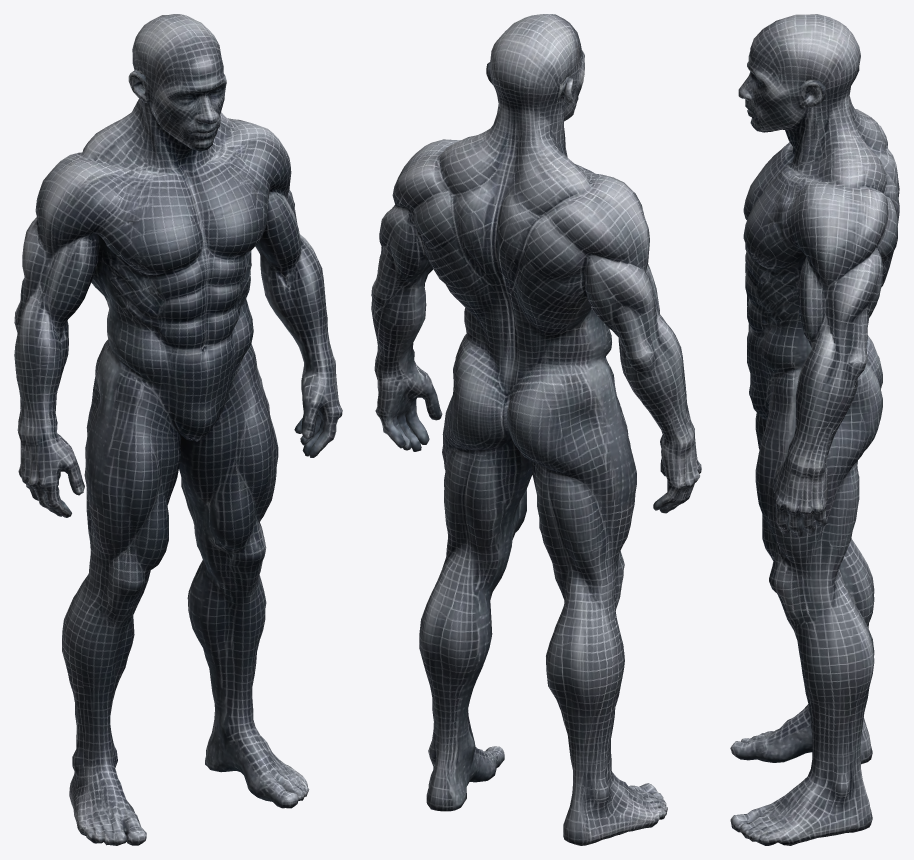
Rendered from humanoid+3d+model-opt.glb.
3 views of the same model, side by side, from view 1: azimuth 30°, elevation 25°; view 2: azimuth 150°, elevation 25°; view 3: azimuth 270°, elevation 25° (orthographic).
Visible parts, largest first — view 1: tripo_node_90bb7f0e-585d-4687-9f8a-162197c8fb27; view 2: tripo_node_90bb7f0e-585d-4687-9f8a-162197c8fb27; view 3: tripo_node_90bb7f0e-585d-4687-9f8a-162197c8fb27.
Part boxes in pixels (x1,y1,x2,y2): tripo_node_90bb7f0e-585d-4687-9f8a-162197c8fb27: (14,14,342,845); tripo_node_90bb7f0e-585d-4687-9f8a-162197c8fb27: (371,14,701,845); tripo_node_90bb7f0e-585d-4687-9f8a-162197c8fb27: (730,14,899,845).
Size of the model in its own units: 0.4073 by 0.9773 by 0.1931.
1 material, 1 textured.
